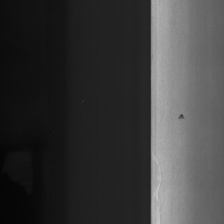inclusion: (151, 143, 164, 224), (176, 112, 187, 124)
